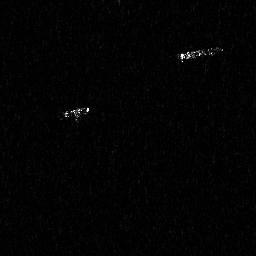ship: (177, 43, 225, 65), (59, 104, 92, 124)
